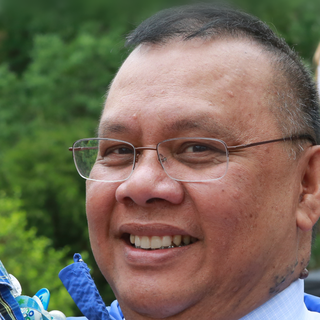eye: (171, 136, 220, 158), (99, 142, 139, 160)
